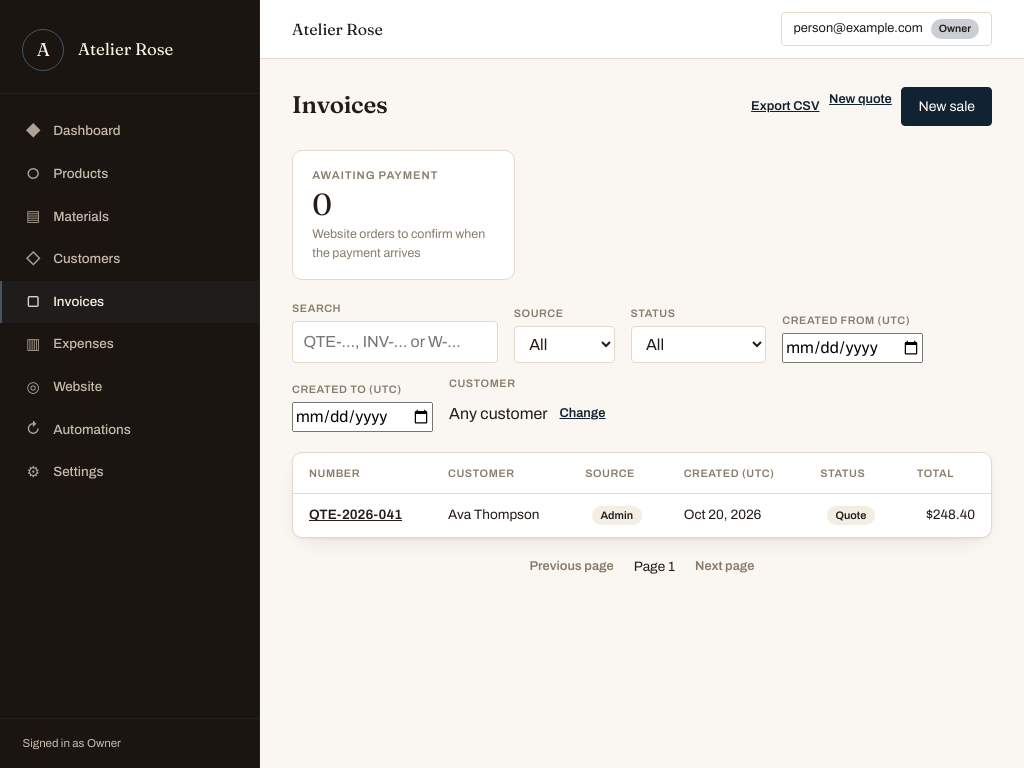
Scenario: invoices list › an email typed into the customer search is never sent
Expected: the link "QTE-2026-041" is shown, [309,507,402,522]
Click the button with aria-label "Change customer".
click(582, 414)  # box [560,401,606,427]
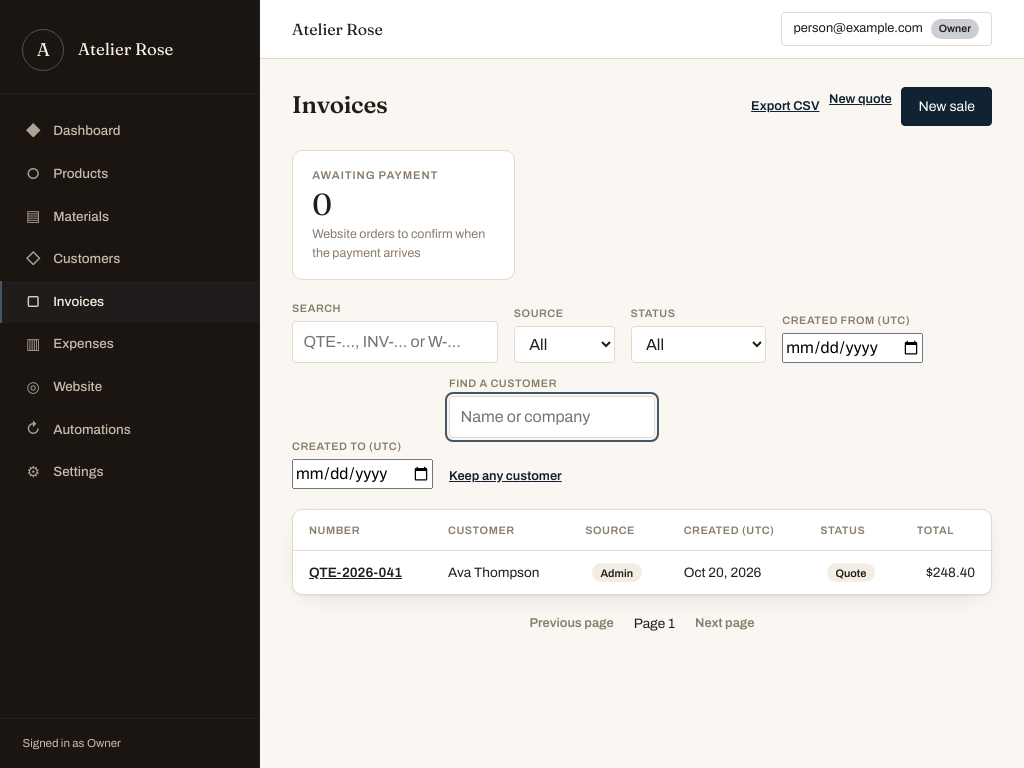
Type "ava@example.com" into the search field labelled "Find a customer".
click(552, 417); type("ava@example.com")  # box [449,396,655,438]
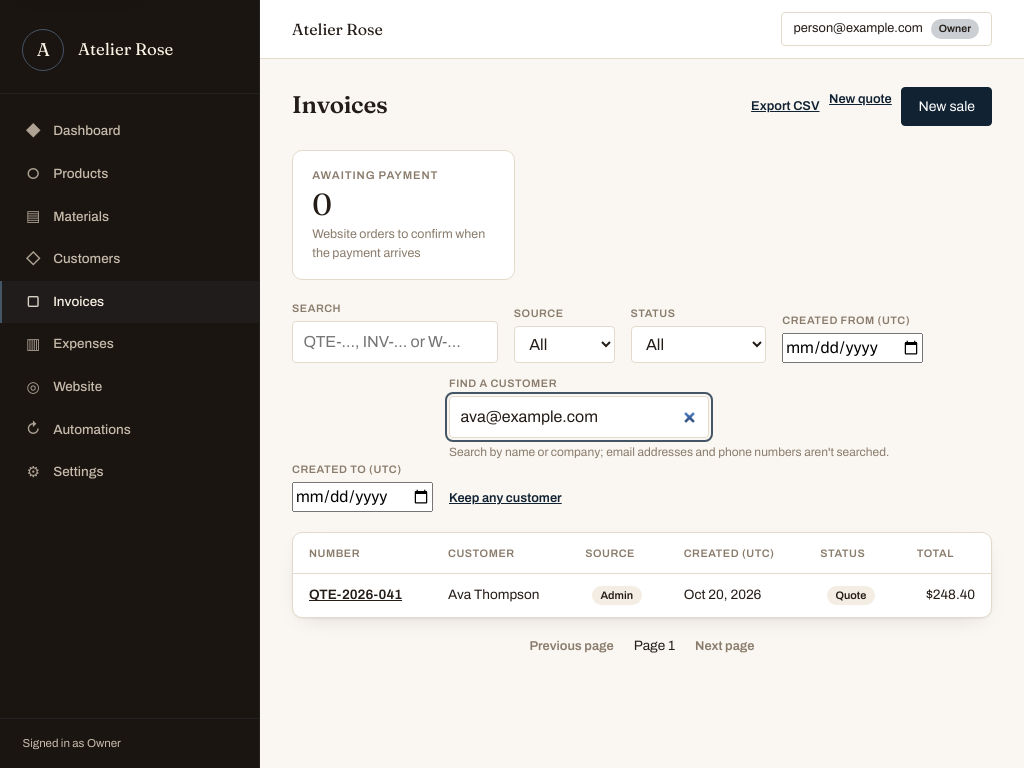
Now the text "Search by name or company; email addresses and phone numbers aren't searched." is shown, box [449,443,889,461]
